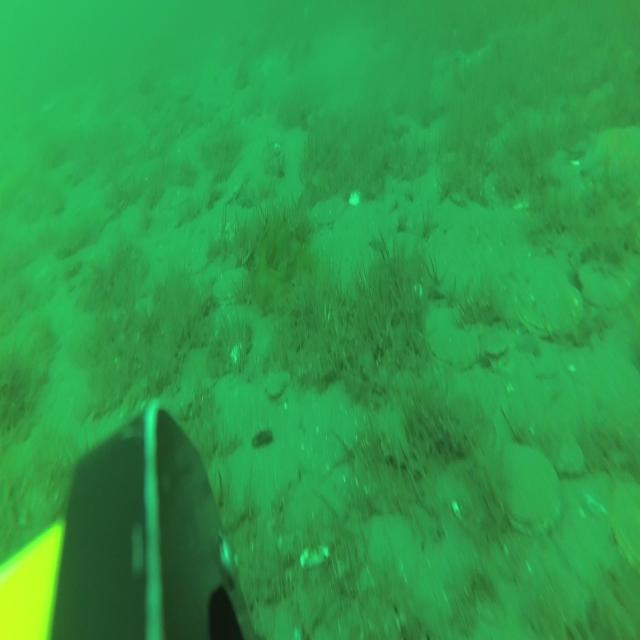scallop: (494, 441, 560, 534), (518, 274, 582, 340), (581, 257, 629, 312), (613, 481, 640, 571), (432, 321, 478, 368), (213, 269, 250, 304), (555, 441, 584, 478), (313, 196, 346, 227), (265, 368, 290, 399), (487, 340, 506, 360)
starfish: (581, 122, 640, 190)
